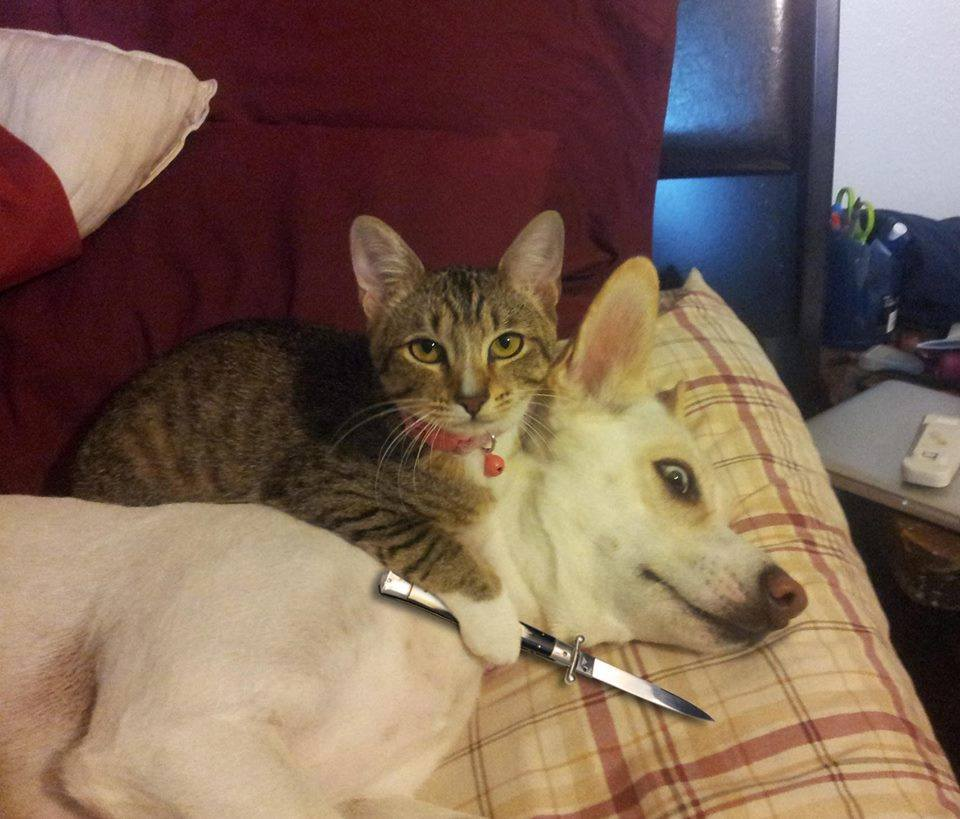cat: (42, 205, 571, 603)
dog: (1, 416, 809, 806)
